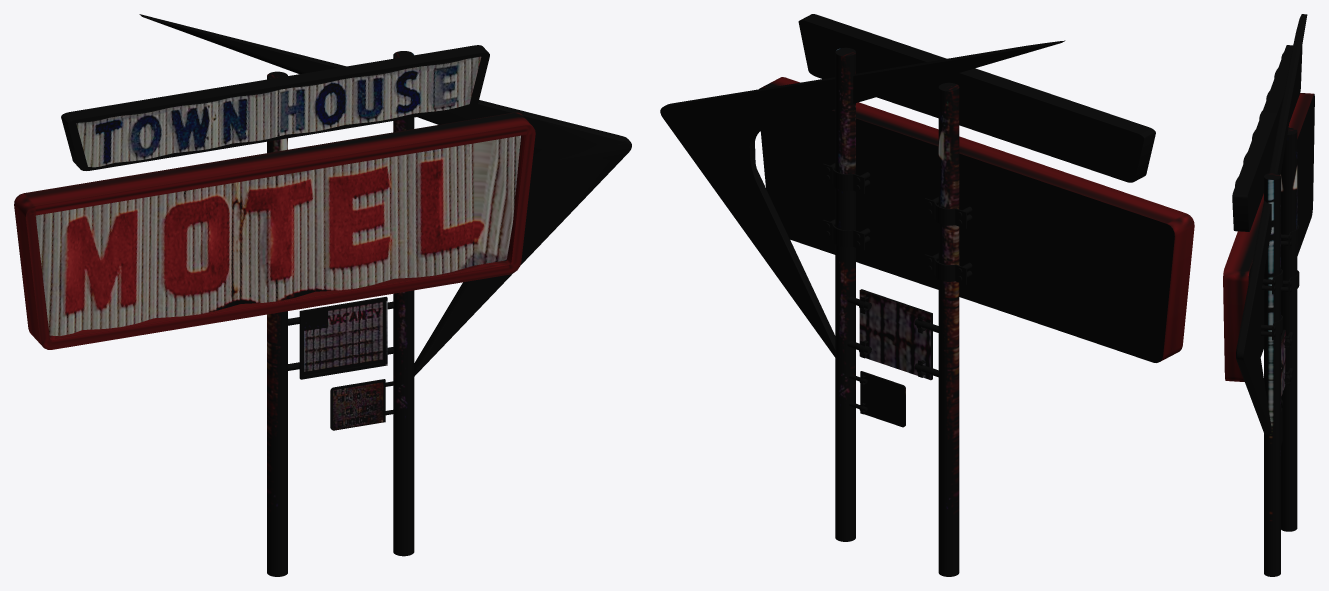
File: Motel.fbx
3 views of the same model, side by side, from view 1: azimuth 30°, elevation 25°; view 2: azimuth 150°, elevation 25°; view 3: azimuth 270°, elevation 25° (orthographic). The views are drawn at different scales.
Parts seen in each view (by area): view 1: Motel _Baked; view 2: Motel _Baked; view 3: Motel _Baked.
Boxes of the visible parts, <box> form: Motel _Baked: <box>14,14,631,576</box>; Motel _Baked: <box>660,14,1194,576</box>; Motel _Baked: <box>1223,14,1314,576</box>.
Size of the model in its own units: 565 by 545 by 97.83.
1 material, 1 textured.
